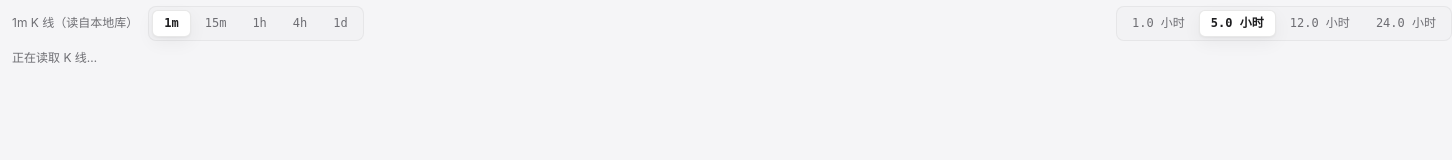
Scenario: PriceChart 周期切换 › 桶尚未收盘导致空状态时说明「等下一批」
Click the button titled "切换到 1h" at (260, 23), box [240, 10, 279, 37]
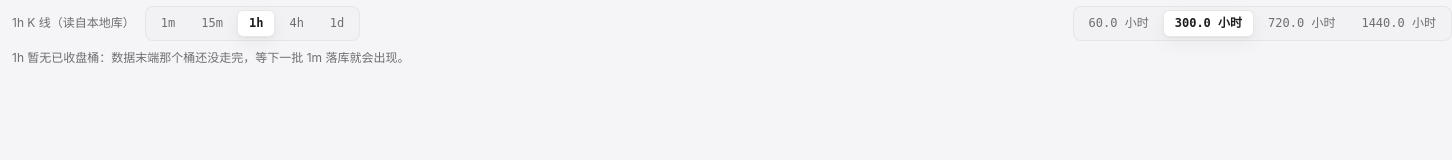
Expected: the text "还没走完" is shown, [12, 50, 410, 65]
Expected: the text "下一批" is shown, [12, 50, 410, 65]
